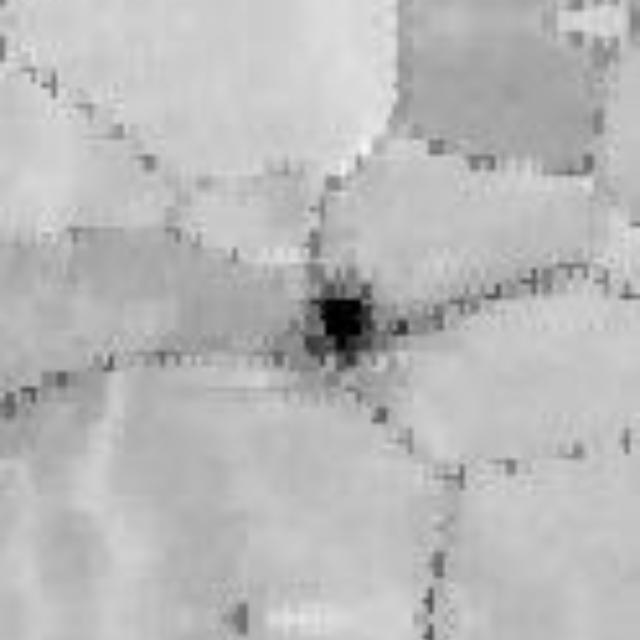good_void: (294, 273, 385, 377)
